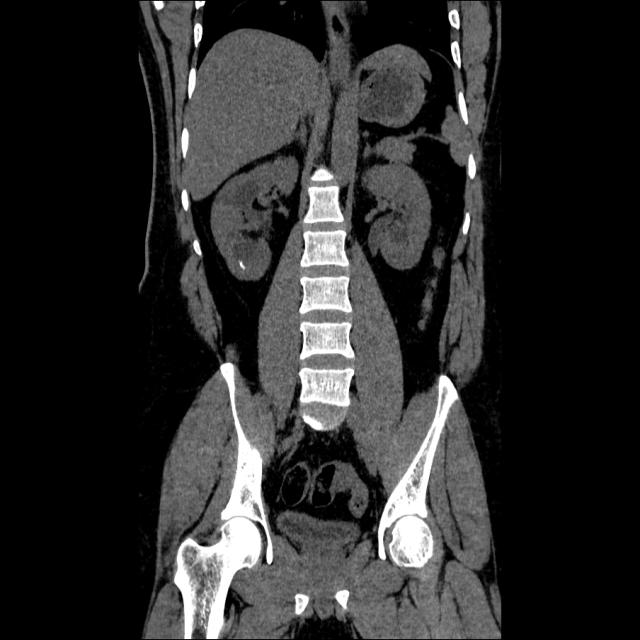kidney: (211, 156, 300, 282), (362, 160, 437, 270)
stone: (237, 259, 246, 270)
